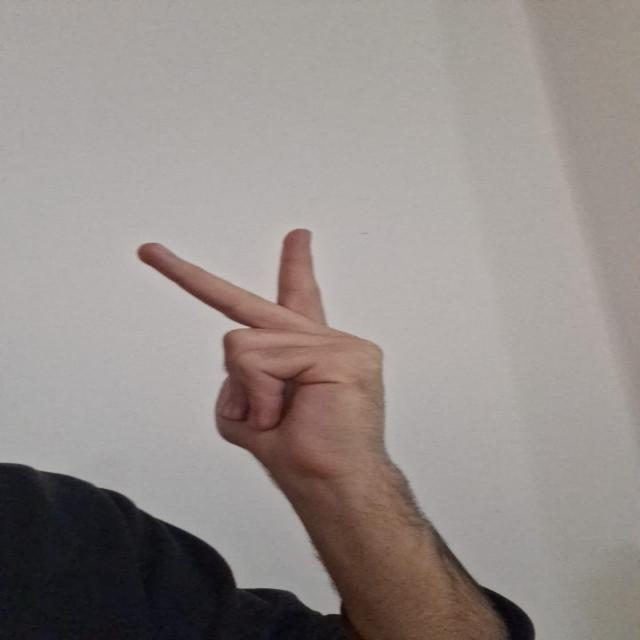K: (136, 222, 400, 466)
